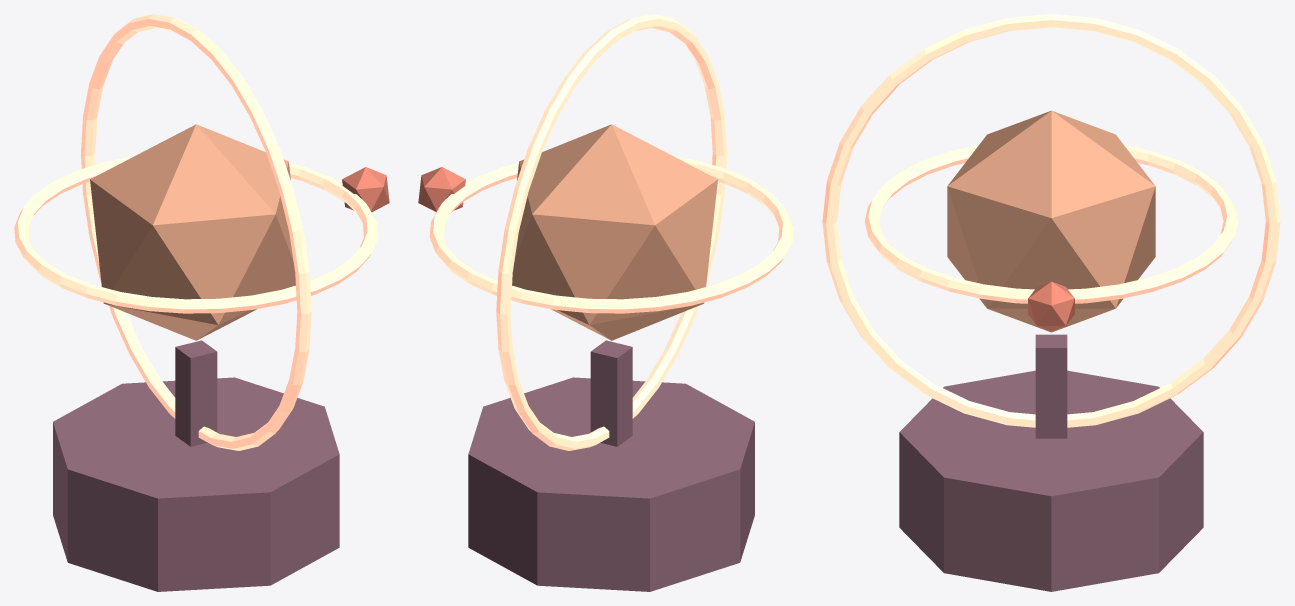
3 views of the same model, side by side, from view 1: azimuth 30°, elevation 25°; view 2: azimuth 150°, elevation 25°; view 3: azimuth 270°, elevation 25° (orthographic). The views are drawn at different scales.
Visible parts, largest first — view 1: plinth, intelligence_core, orbit_a, orbit_b, support, satellite; view 2: plinth, intelligence_core, orbit_a, orbit_b, support, satellite; view 3: plinth, intelligence_core, orbit_a, orbit_b, support, satellite.
Part boxes in pixels (left/top/right/bottom): plinth: left=53, top=377, right=339, bottom=591; intelligence_core: left=90, top=124, right=295, bottom=340; orbit_a: left=81, top=14, right=311, bottom=450; orbit_b: left=14, top=156, right=378, bottom=313; support: left=175, top=340, right=217, bottom=446; satellite: left=342, top=167, right=389, bottom=212; plinth: left=468, top=377, right=754, bottom=591; intelligence_core: left=512, top=124, right=717, bottom=340; orbit_a: left=496, top=14, right=726, bottom=450; orbit_b: left=429, top=156, right=793, bottom=313; support: left=590, top=340, right=632, bottom=446; satellite: left=418, top=167, right=465, bottom=212; plinth: left=899, top=370, right=1203, bottom=591; intelligence_core: left=947, top=110, right=1155, bottom=332; orbit_a: left=822, top=14, right=1280, bottom=427; orbit_b: left=864, top=145, right=1238, bottom=303; support: left=1035, top=334, right=1067, bottom=438; satellite: left=1028, top=281, right=1074, bottom=330.
Size of the model in its own units: 1.95 by 2.68 by 2.17.
